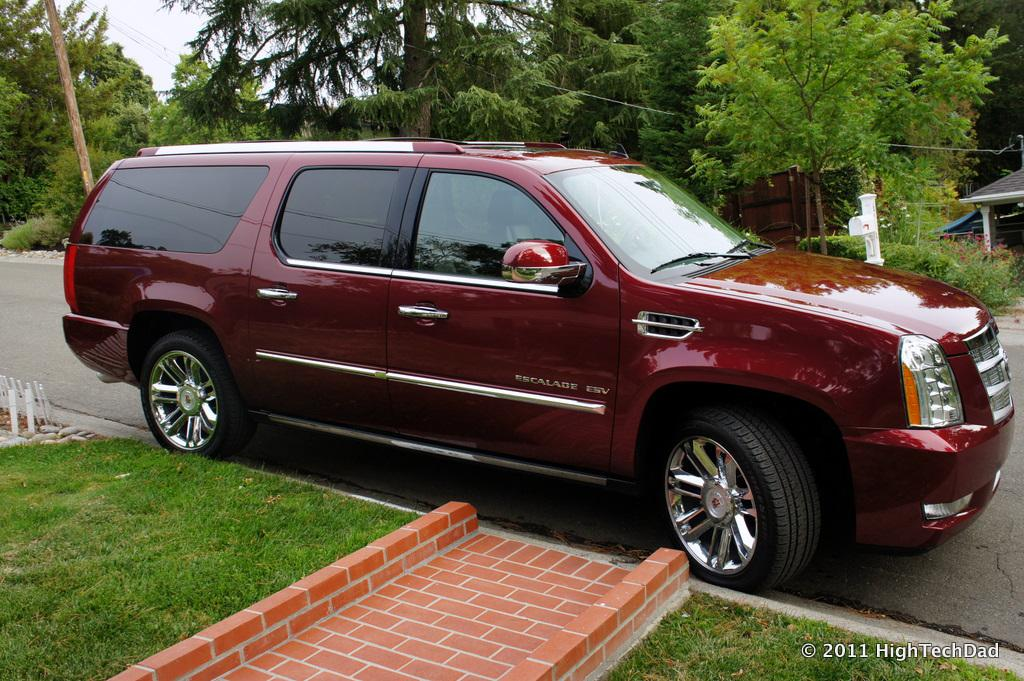Tree: (158, 0, 1024, 253), (0, 0, 154, 218)
